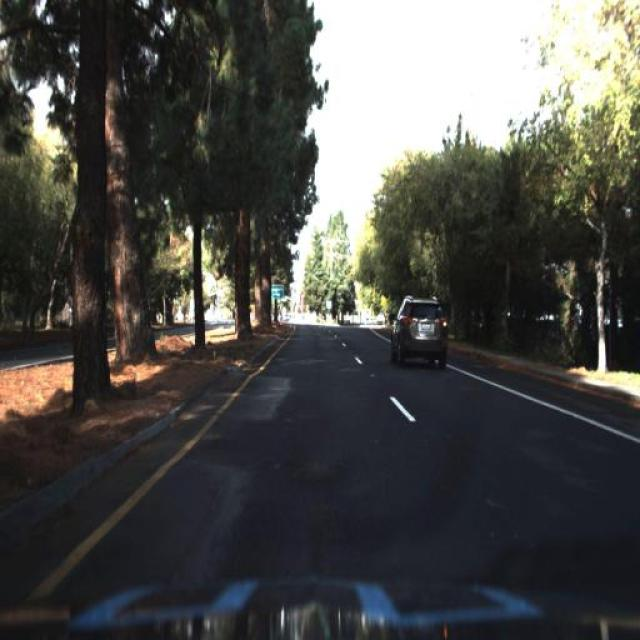car: (384, 292, 448, 368)
